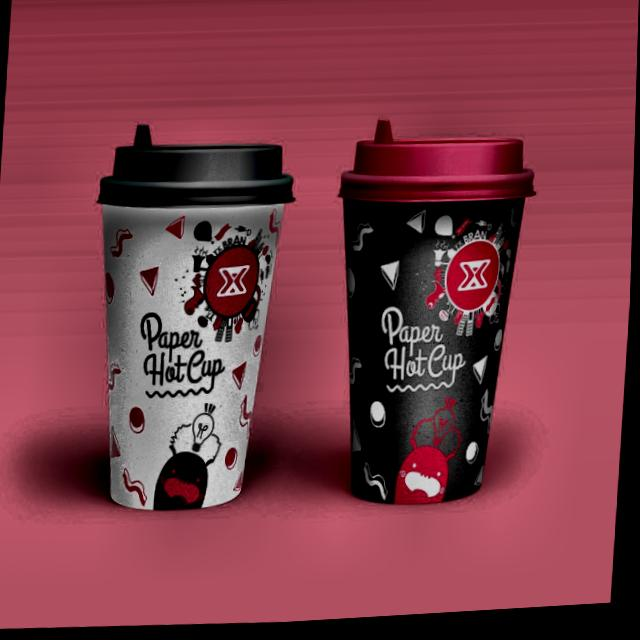Cup: (78, 125, 293, 523), (325, 128, 525, 520)
